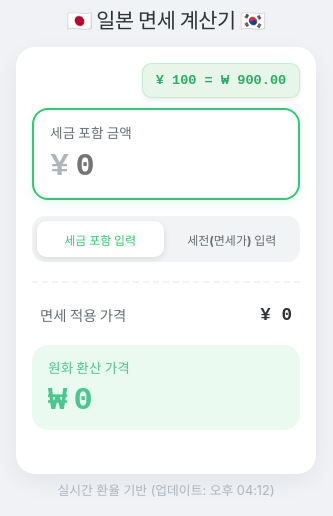
Scenario: App › shows warning when the price is below 5,000 JPY
The width and height of the screenshot is (333, 516).
Check: the text "¥ 100 = ₩ 900.00" is shown, box [142,63,300,98]
In the field labelled "세금 포함 금액": (179, 167) [76,148,282,185], type "4400"
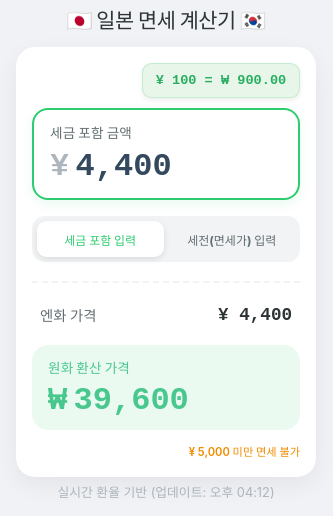
Check: the text "¥ 5,000 미만 면세 불가" is shown, box [189,444,300,461]
Check: the text "¥ 4,400" is shown, box [218,302,292,329]
Check: the text "39,600" is shown, box [74,385,189,417]
